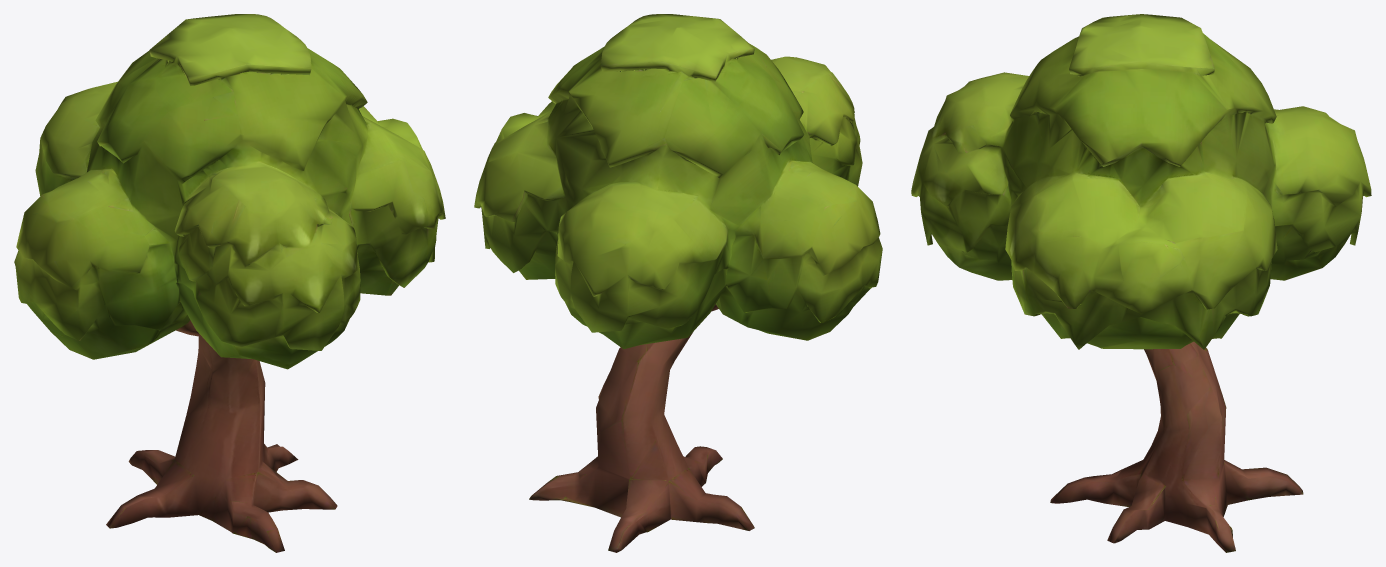
Rendered from tree.glb.
3 views of the same model, side by side, from view 1: azimuth 30°, elevation 25°; view 2: azimuth 150°, elevation 25°; view 3: azimuth 270°, elevation 25° (orthographic). The views are drawn at different scales.
Parts seen in each view (by area): view 1: Mesh_0; view 2: Mesh_0; view 3: Mesh_0.
Part boxes in pixels (x1,y1,x2,y2): Mesh_0: (14, 14, 445, 552); Mesh_0: (474, 14, 882, 552); Mesh_0: (911, 14, 1371, 552).
Size of the model in its own units: 1.61 by 1.91 by 1.68.
1 material, 1 textured.
